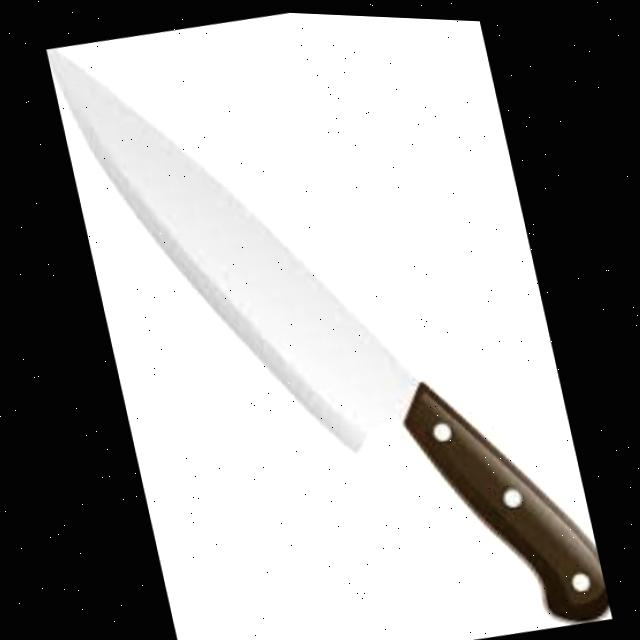Knife: (45, 2, 610, 640)
